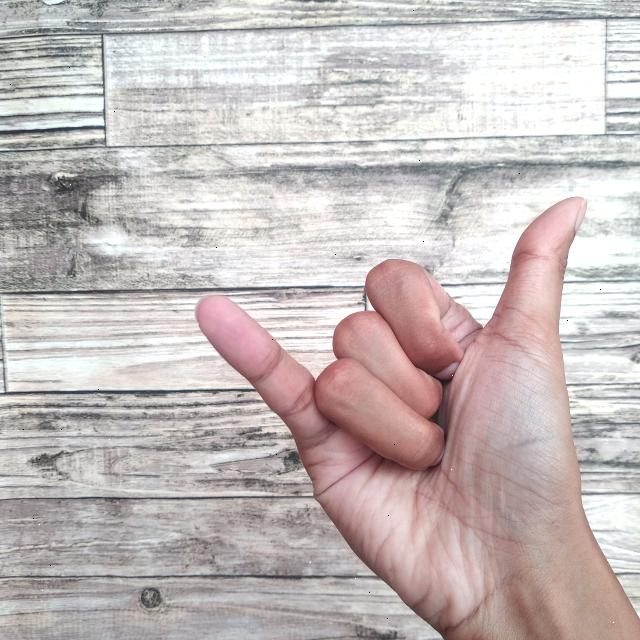Y: (182, 186, 639, 640)
